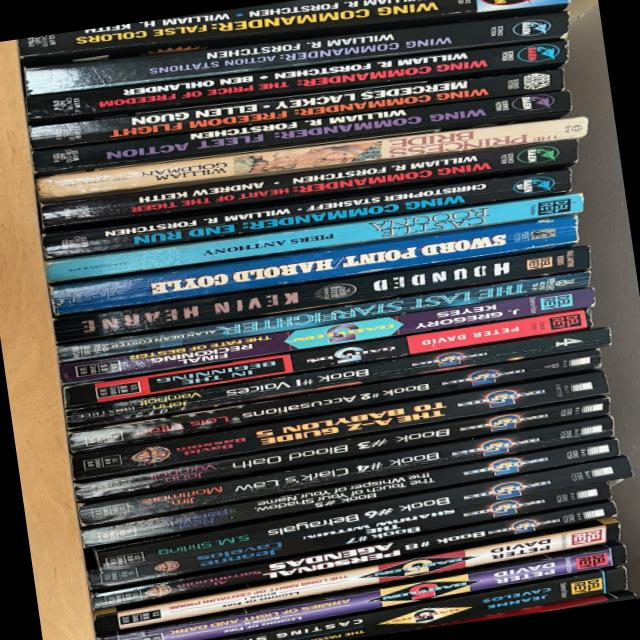book: (84, 452, 634, 576), (93, 517, 621, 636), (78, 412, 614, 527), (71, 367, 608, 481), (81, 436, 620, 549), (71, 392, 611, 503), (90, 499, 618, 610), (65, 324, 611, 430), (88, 480, 612, 590), (68, 347, 600, 453), (53, 243, 593, 344), (51, 214, 579, 316), (65, 306, 591, 408), (59, 286, 595, 385), (96, 540, 625, 640), (40, 137, 579, 234), (36, 111, 589, 203), (41, 167, 572, 261), (44, 192, 586, 284), (56, 271, 592, 363), (25, 37, 571, 127), (21, 10, 568, 97), (32, 90, 572, 177), (29, 65, 565, 151), (16, 0, 571, 69), (208, 563, 629, 640)
